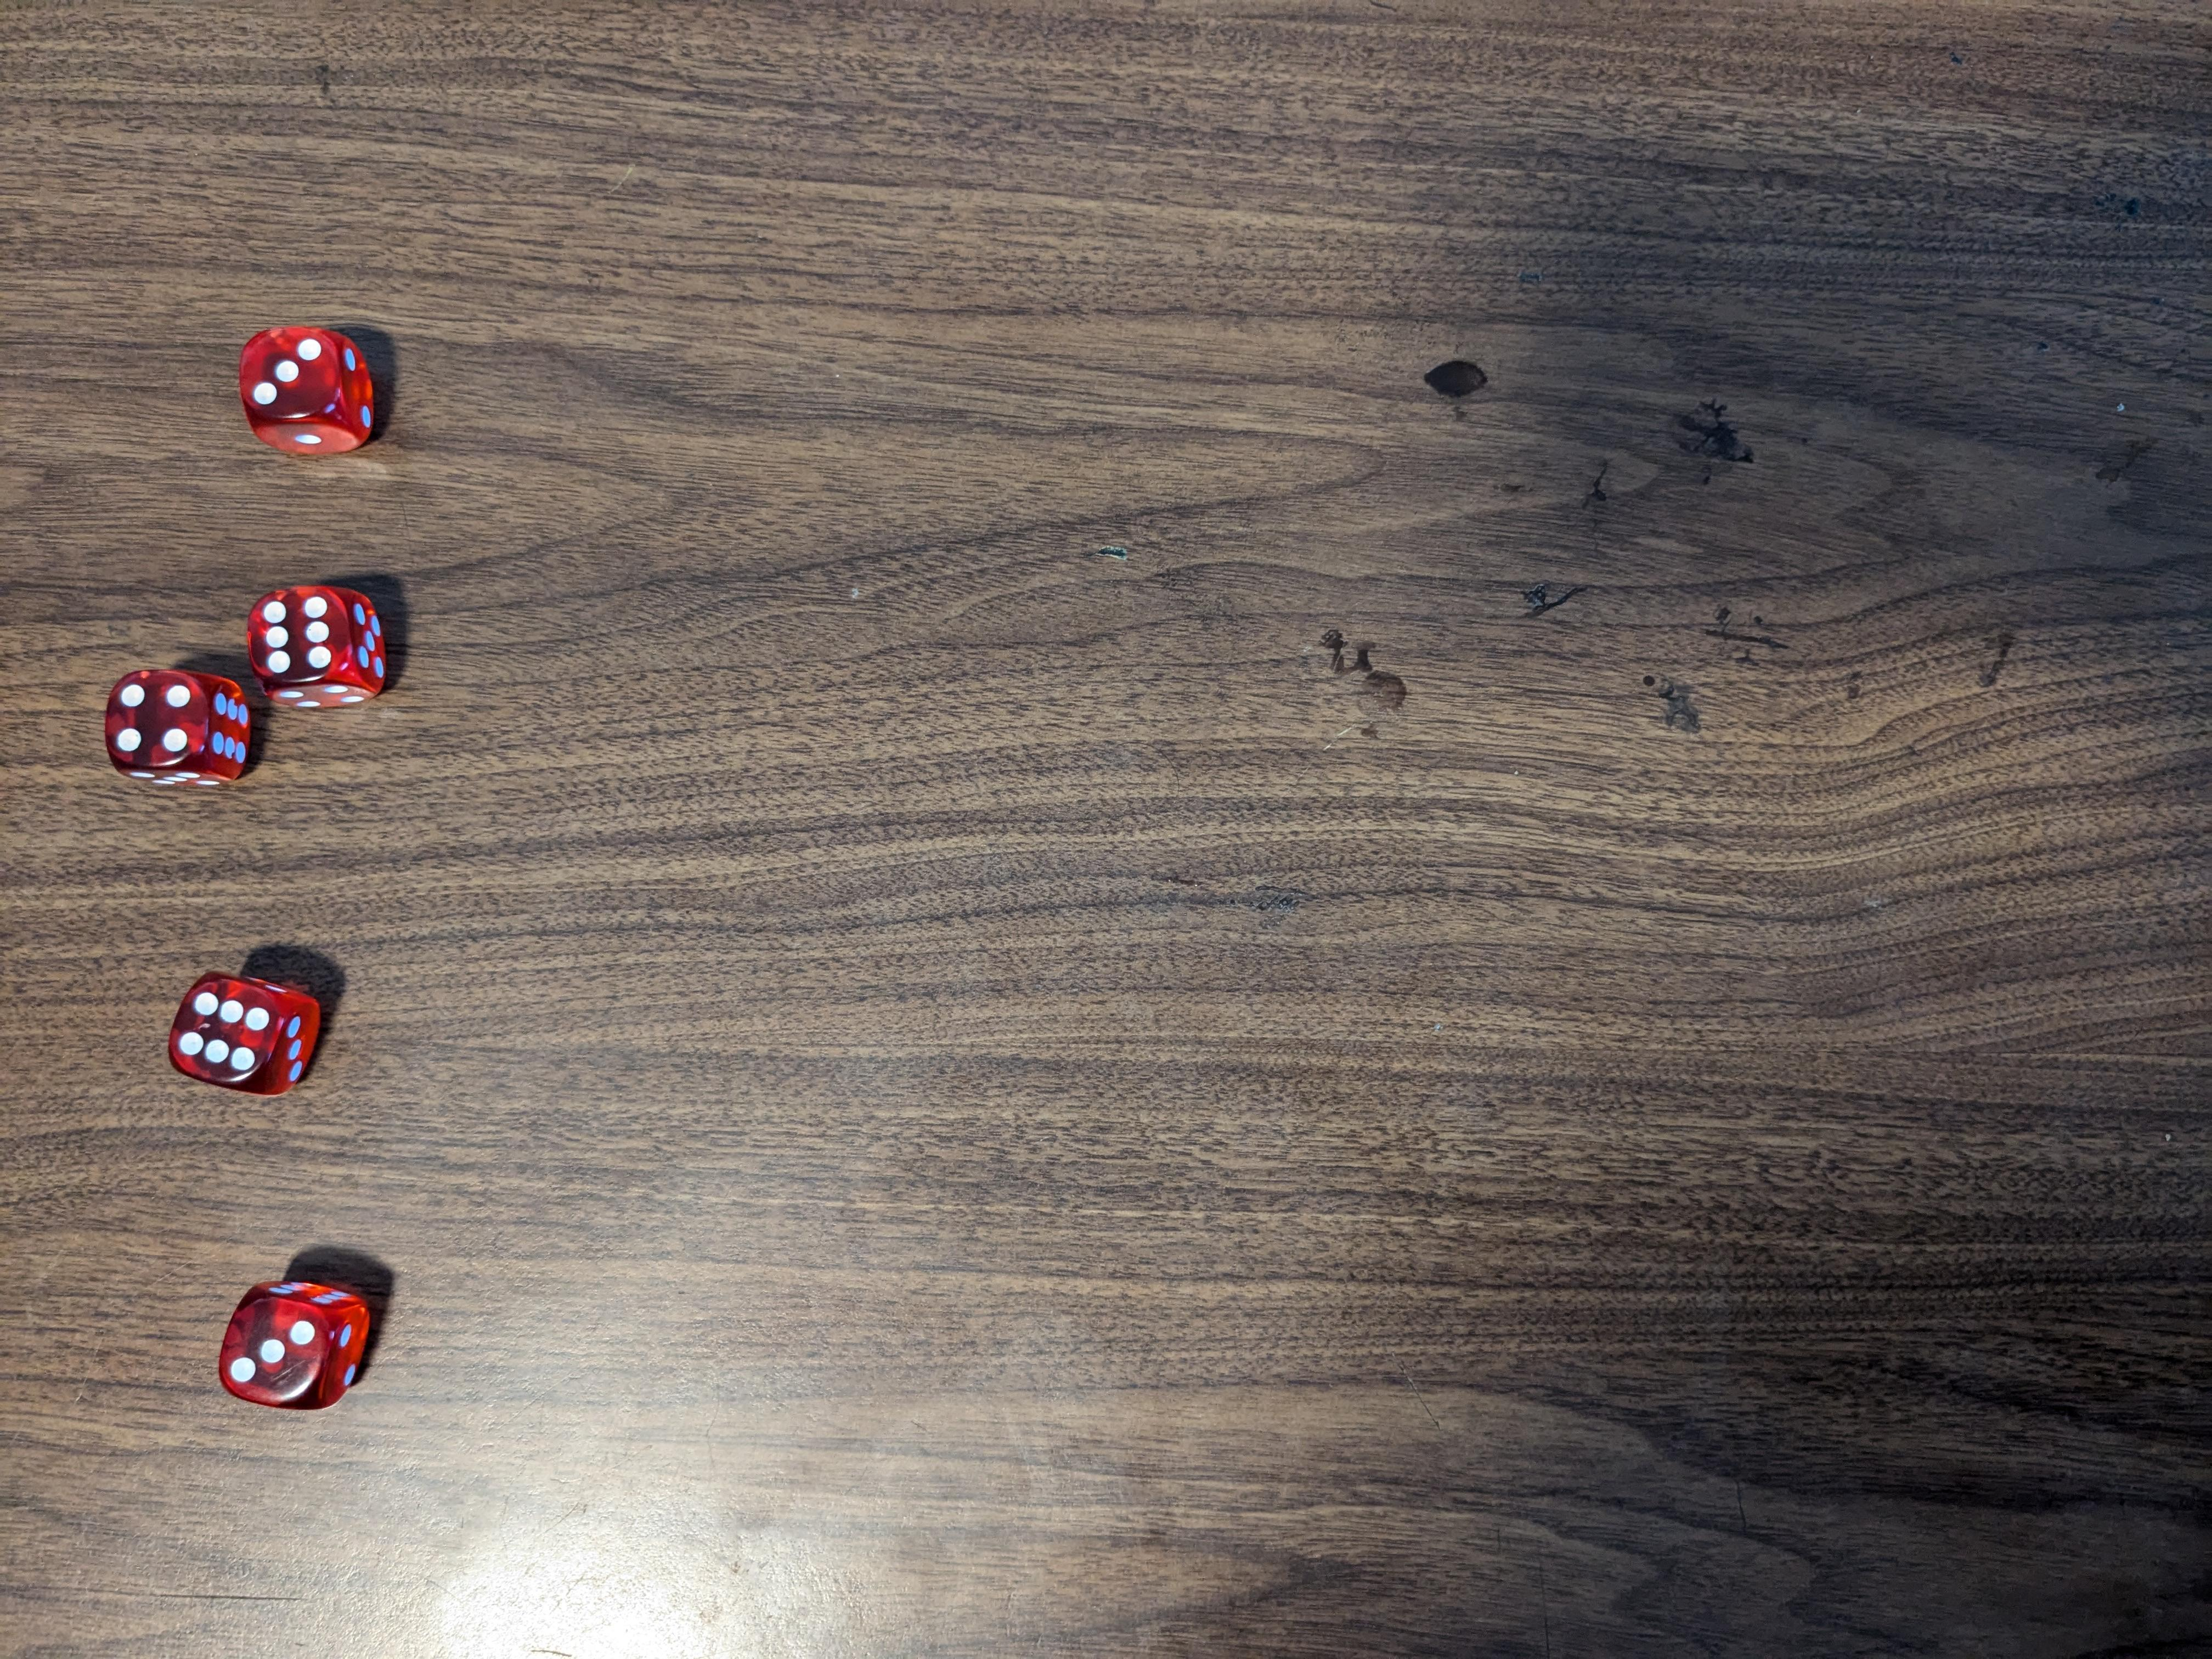four: (101, 671, 254, 786)
six: (164, 972, 334, 1101), (249, 587, 394, 709)
three: (212, 1274, 374, 1413), (235, 322, 385, 458)
